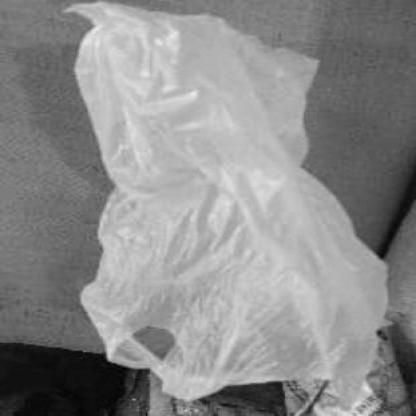objects: (68, 7, 388, 416)
